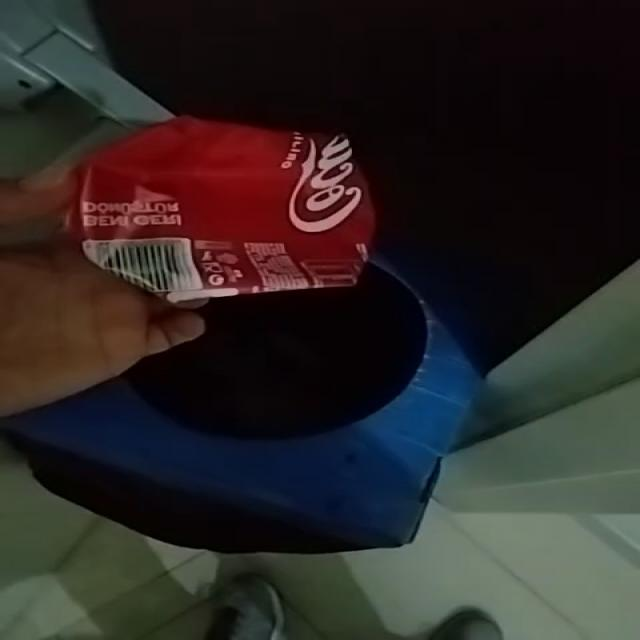bin: (1, 318, 480, 554)
metal: (7, 246, 488, 553), (69, 116, 375, 300), (258, 116, 431, 298)
